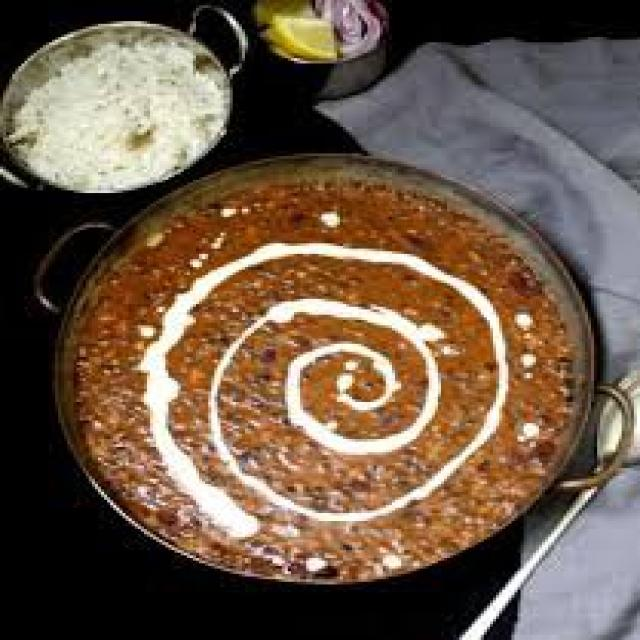dal_makhani: (75, 189, 620, 598)
rice: (0, 11, 242, 190)
